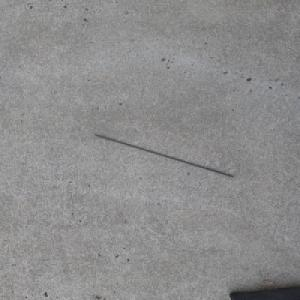LuggagePart: (93, 133, 234, 177)
